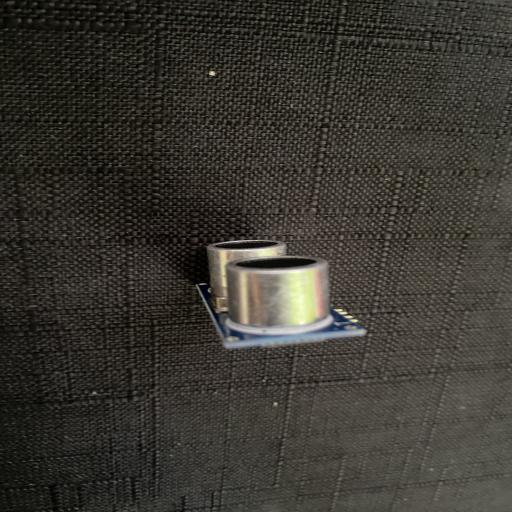Ultrasonic Sensor: (194, 238, 367, 348)
